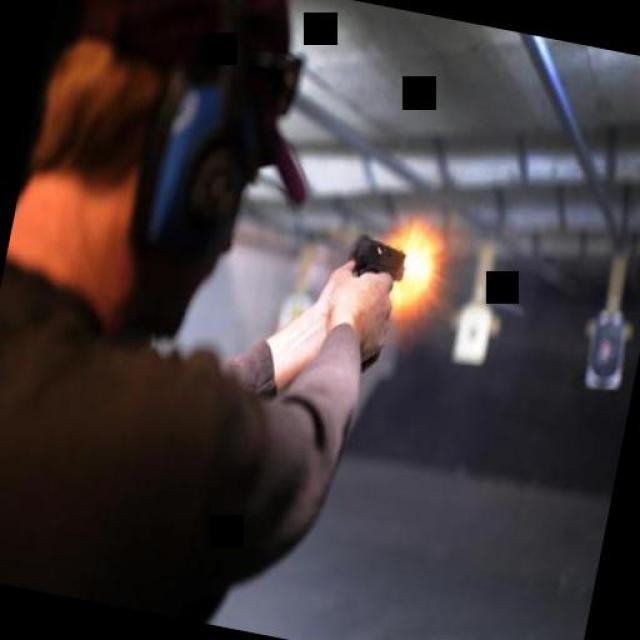gun: (325, 231, 409, 379)
